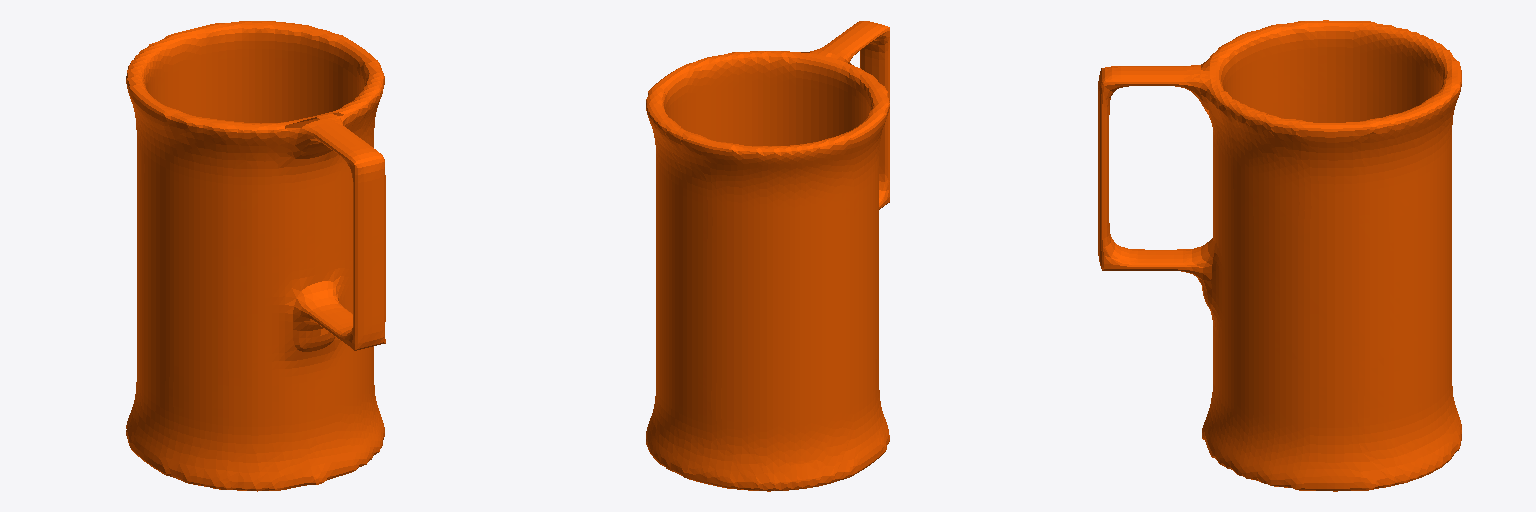
robot.urdf — Mug_8572_body:
<?xml version="1.0" ?>
<robot name="Mug_8572_body">
   <material name="obj_color">
      <color rgba="1.0 0.423529411765 0.0392156862745 1.0"/>
   </material>
   <link name="top">
      <inertial>
         <origin rpy="0.0007891136196708044 0.001677644548389553 0.001685387813647116" xyz="0.0006016943219723153 0.004391072931785398 0.003787088964254514"/>
         <mass value="0.8179201924697123"/>
         <inertia ixx="0.001684046035232365" ixy="-2.930599261852808e-06" ixz="2.923963983669201e-07" iyy="0.001678986160310922" iyz="-2.522440690291253e-07" izz="0.0007891137861641875"/>
      </inertial>
      <visual>
         <origin rpy="0 0 0" xyz="0 0 0"/>
         <geometry>
            <mesh filename="top_watertight_tiny.stl" scale="1 1 1"/>
         </geometry>
         <material name="obj_color"/>
      </visual>
      <collision>
         <origin rpy="0 0 0" xyz="0 0 0"/>
         <geometry>
            <mesh filename="top_watertight_tiny.obj" scale="1 1 1"/>
         </geometry>
      </collision>
   </link>
   <link name="bottom">
      <inertial>
         <origin rpy="6.745254108491088e-06 2.303671999250977e-05 2.684293676948858e-05" xyz="0.0006204611892147815 -0.05404375859269096 0.03756780390515495"/>
         <mass value="0.04866018979243077"/>
         <inertia ixx="2.684265198416134e-05" ixy="-2.728870037505627e-08" ixz="-4.593578738216917e-08" iyy="2.302201872613109e-05" iyz="-4.920909875443645e-07" izz="6.760240160197021e-06"/>
      </inertial>
      <visual>
         <origin rpy="0 0 0" xyz="0 0 0"/>
         <geometry>
            <mesh filename="bottom_watertight_tiny.stl" scale="1 1 1"/>
         </geometry>
         <material name="obj_color"/>
      </visual>
      <collision>
         <origin rpy="0 0 0" xyz="0 0 0"/>
         <geometry>
            <mesh filename="bottom_watertight_tiny.obj" scale="1 1 1"/>
         </geometry>
      </collision>
   </link>
   <joint name="rotation" type="revolute">
      <origin xyz="0 0 0"/>
      <axis xyz="0 0 -1"/>
      <parent link="bottom"/>
      <child link="top"/>
      <dynamics damping="1.0" friction="1.0"/>
      <limit effort="0.1" velocity="0.1" lower="0" upper="0.001"/>
   </joint>
</robot>

--- What the picture shows (computed from the rendered views, not written in the file) ---
The picture shows the robot from 3 angles, left to right: view 1: azimuth 30°, elevation 25°; view 2: azimuth 150°, elevation 25°; view 3: azimuth 270°, elevation 25°; orthographic projection.
Robot: Mug_8572_body — 2 links, 1 joints (1 revolute); root link bottom; default pose: every joint at zero.
Links seen in each view (by area): view 1: top, bottom; view 2: top, bottom; view 3: top, bottom.
Boxes of the visible links, box(x1,y1,x2,y2) form: top: box(126, 21, 384, 491); bottom: box(286, 113, 385, 350); top: box(646, 51, 889, 491); bottom: box(801, 21, 889, 209); top: box(1201, 20, 1461, 491); bottom: box(1098, 59, 1209, 285).
Bounding box of the posed robot: 0.087 × 0.1232 × 0.1382 m (x, y, z).
2 mesh visuals loaded from 2 distinct referenced files (2 binary STL).